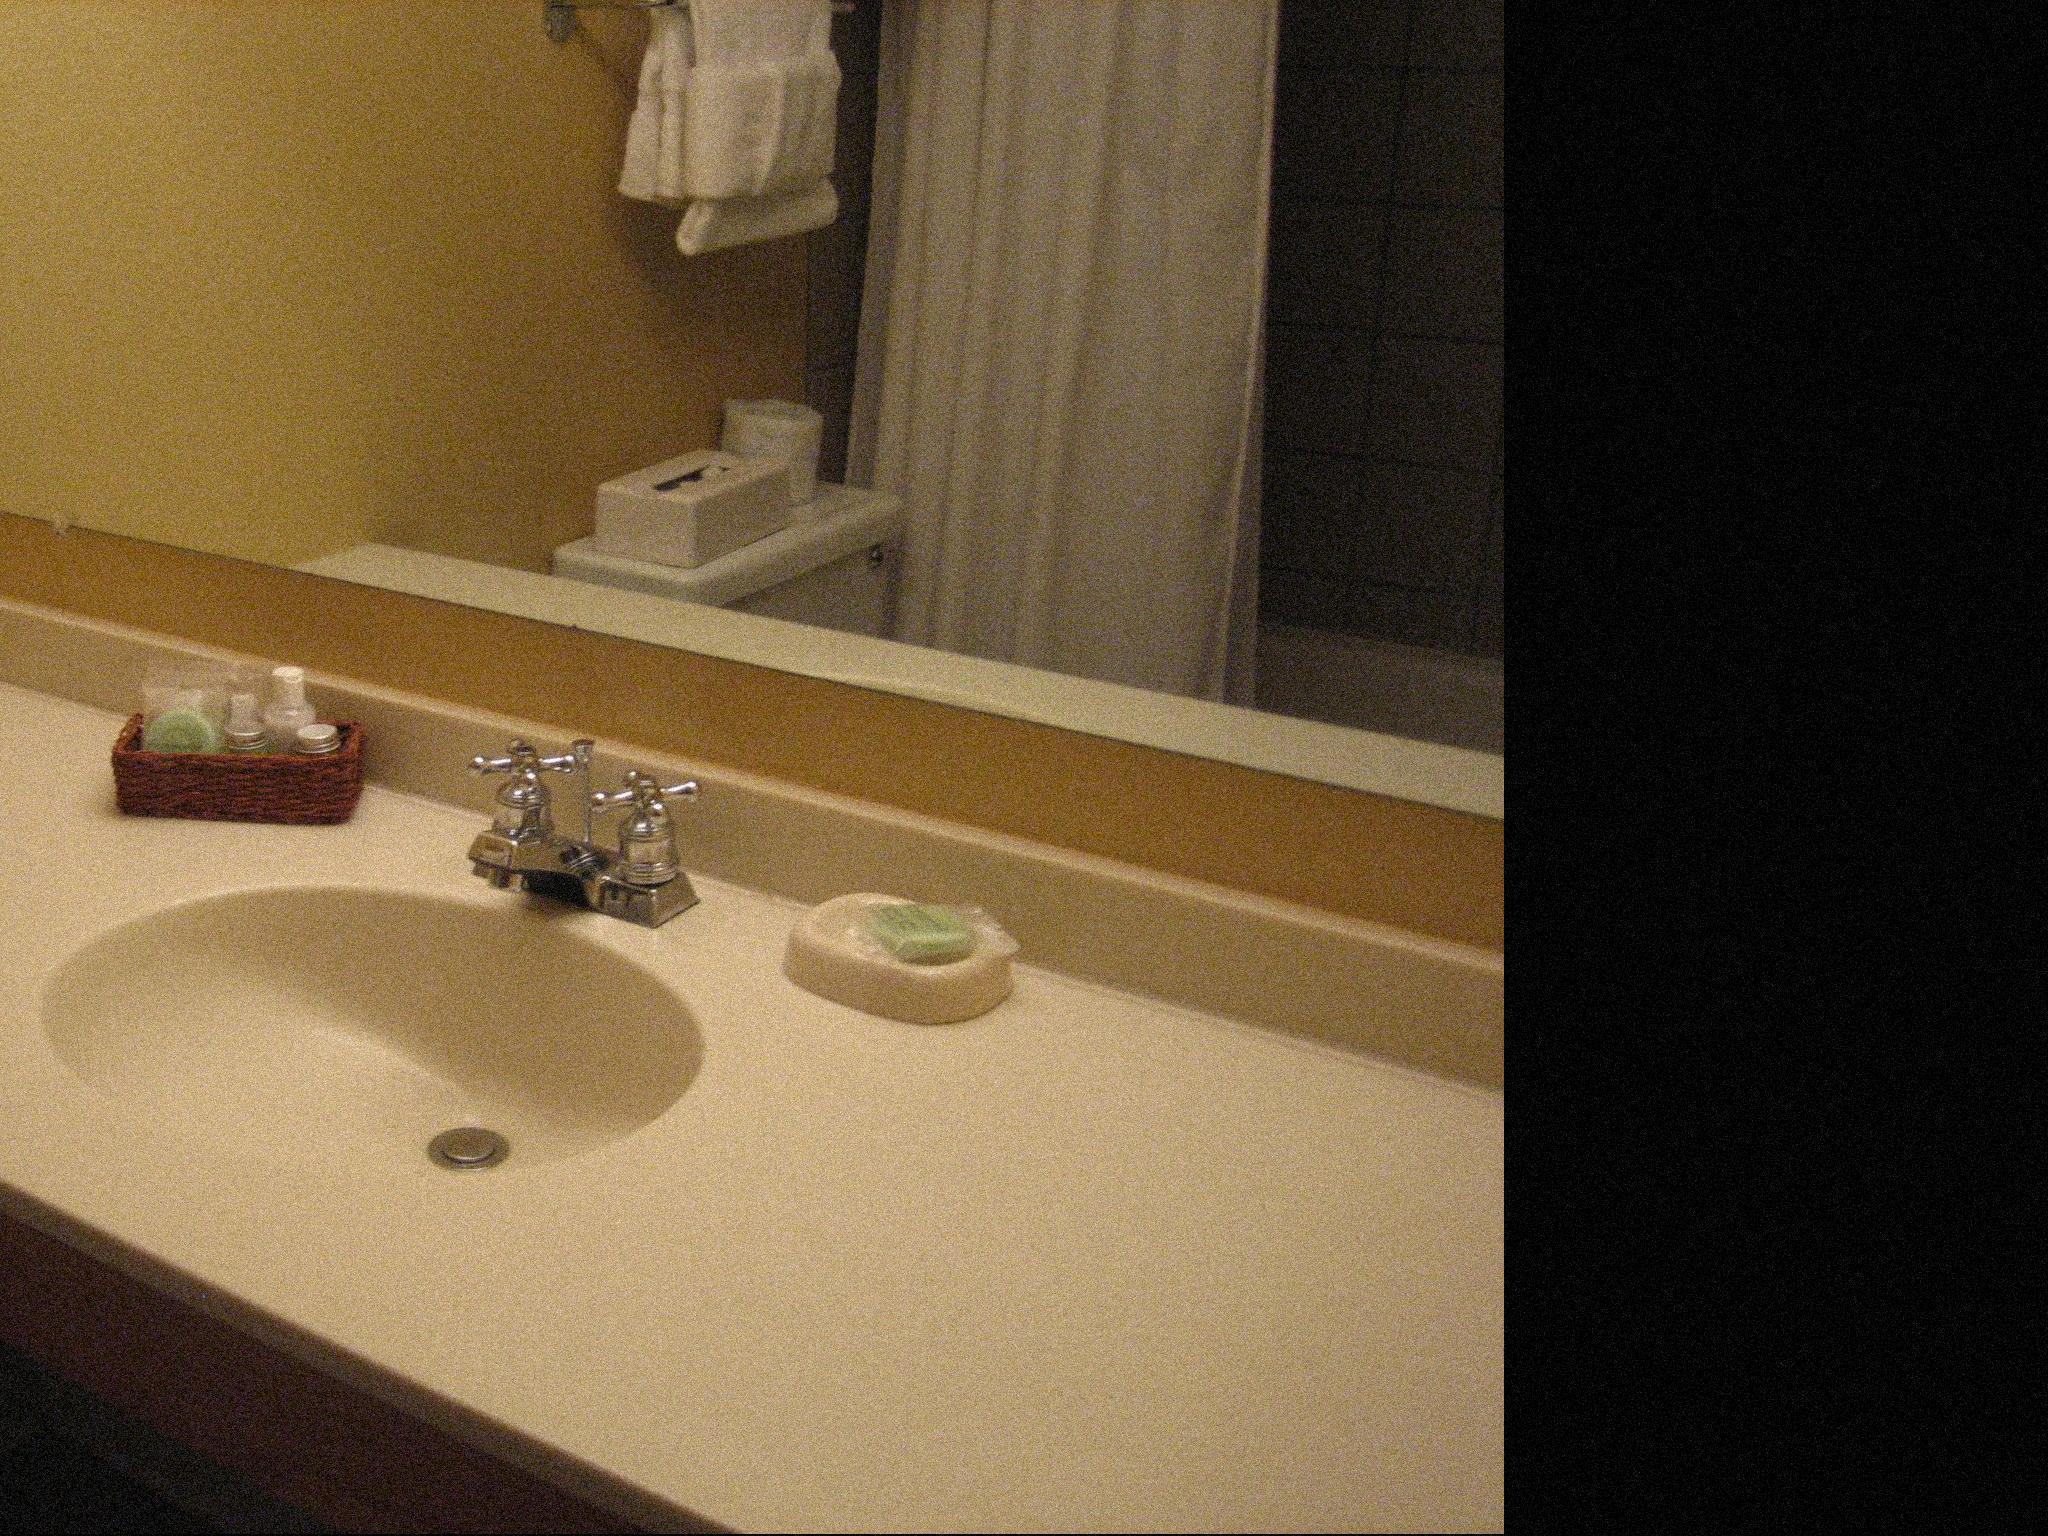Lavamanos: (0, 650, 792, 1260)
